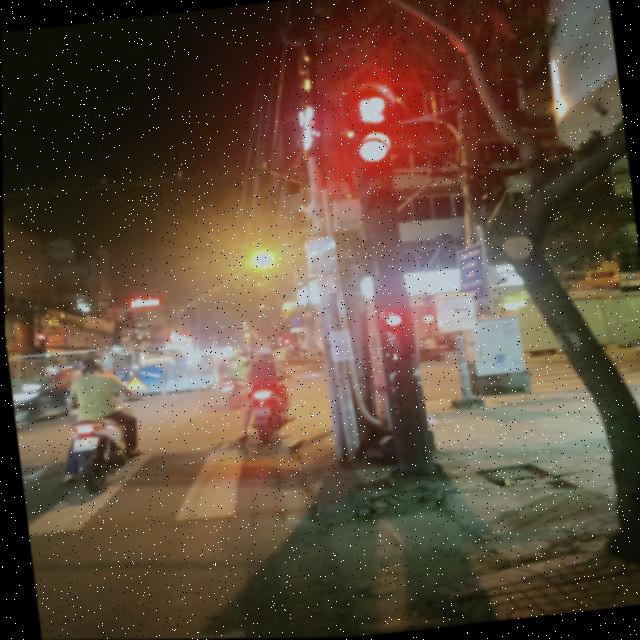Red: (348, 121, 406, 233), (375, 308, 419, 371)
